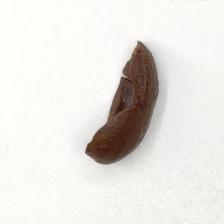NG: (85, 41, 143, 155)
